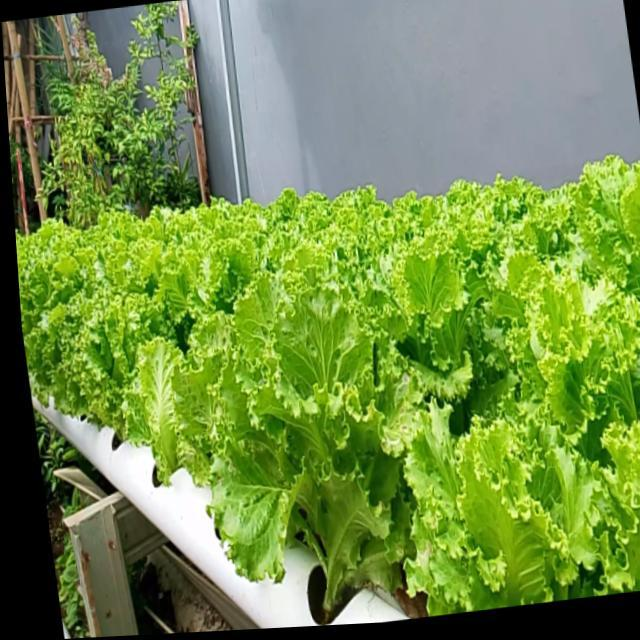Mature: (191, 286, 431, 623), (60, 290, 175, 454)
